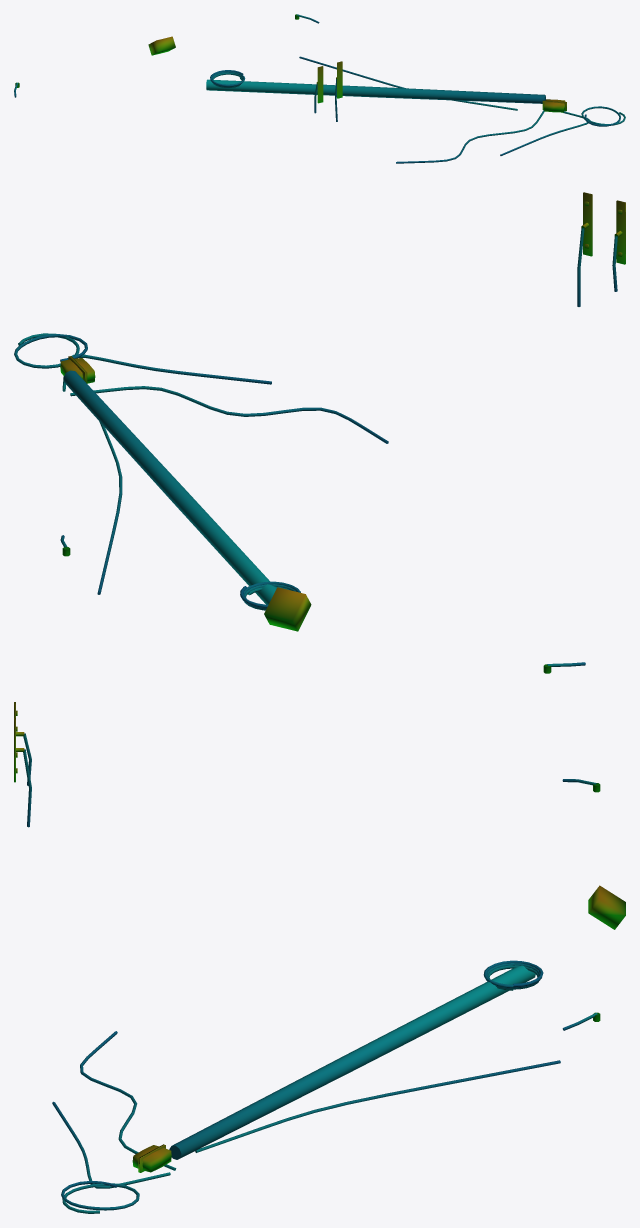
File: liss_hoist_cut.glb
3 renders of one model, top to bottom at view 1: azimuth 30°, elevation 25°; view 2: azimuth 150°, elevation 25°; view 3: azimuth 270°, elevation 25°, orthographic. The views are drawn at different scales.
Visible parts, largest first — view 1: liss_hoist_cut; view 2: liss_hoist_cut; view 3: liss_hoist_cut.
Boxes of the visible parts, x1,y1,x2,y2 form: liss_hoist_cut: [14, 14, 625, 163]; liss_hoist_cut: [14, 192, 625, 673]; liss_hoist_cut: [14, 702, 625, 1213].
Size of what is drawn, in the model's own units: 8.71 by 2.57 by 5.86.
